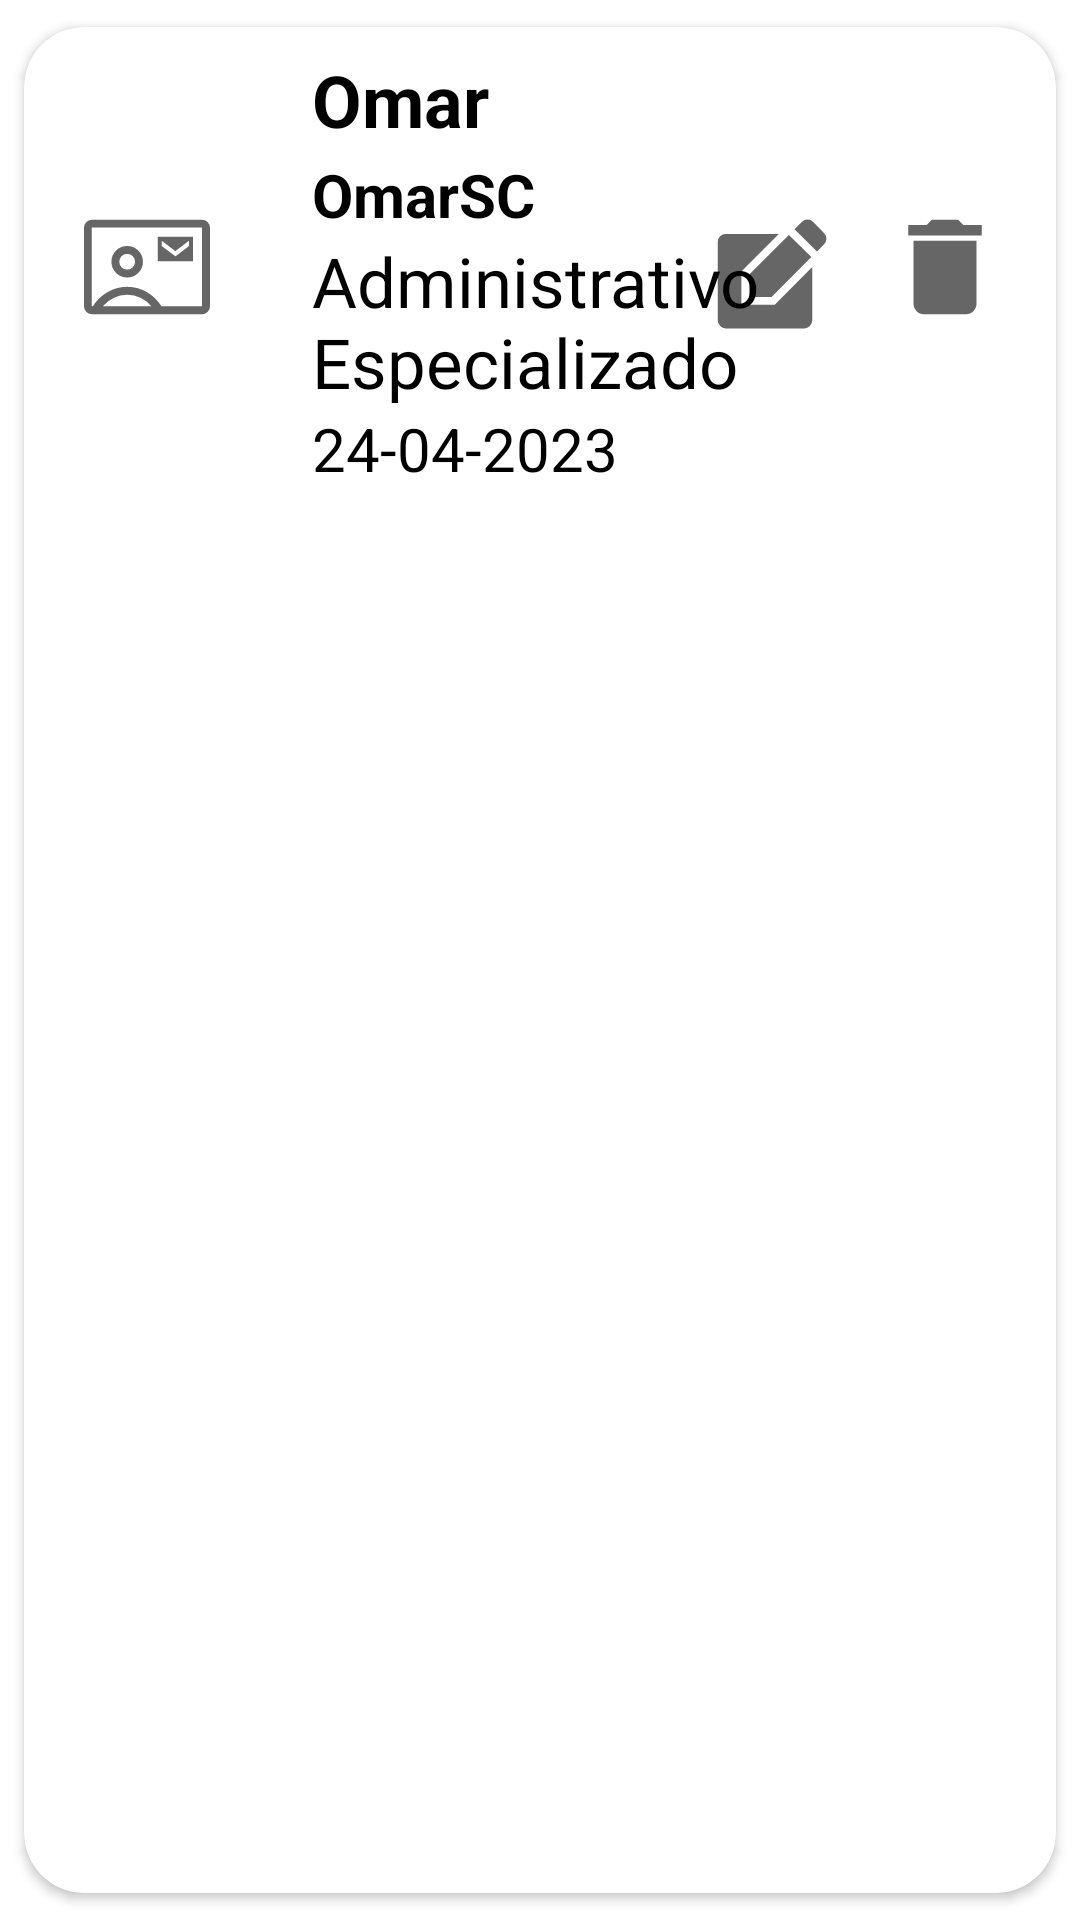

Screen size 1080x1920. Icon name, then its box in pixels as {"x1": x1, "y1": y1, "x2": x2, "y2": y2}:
contact mail: {"x1": 84, "y1": 219, "x2": 210, "y2": 315}
delete: {"x1": 908, "y1": 219, "x2": 982, "y2": 315}
edit square: {"x1": 702, "y1": 219, "x2": 827, "y2": 329}
